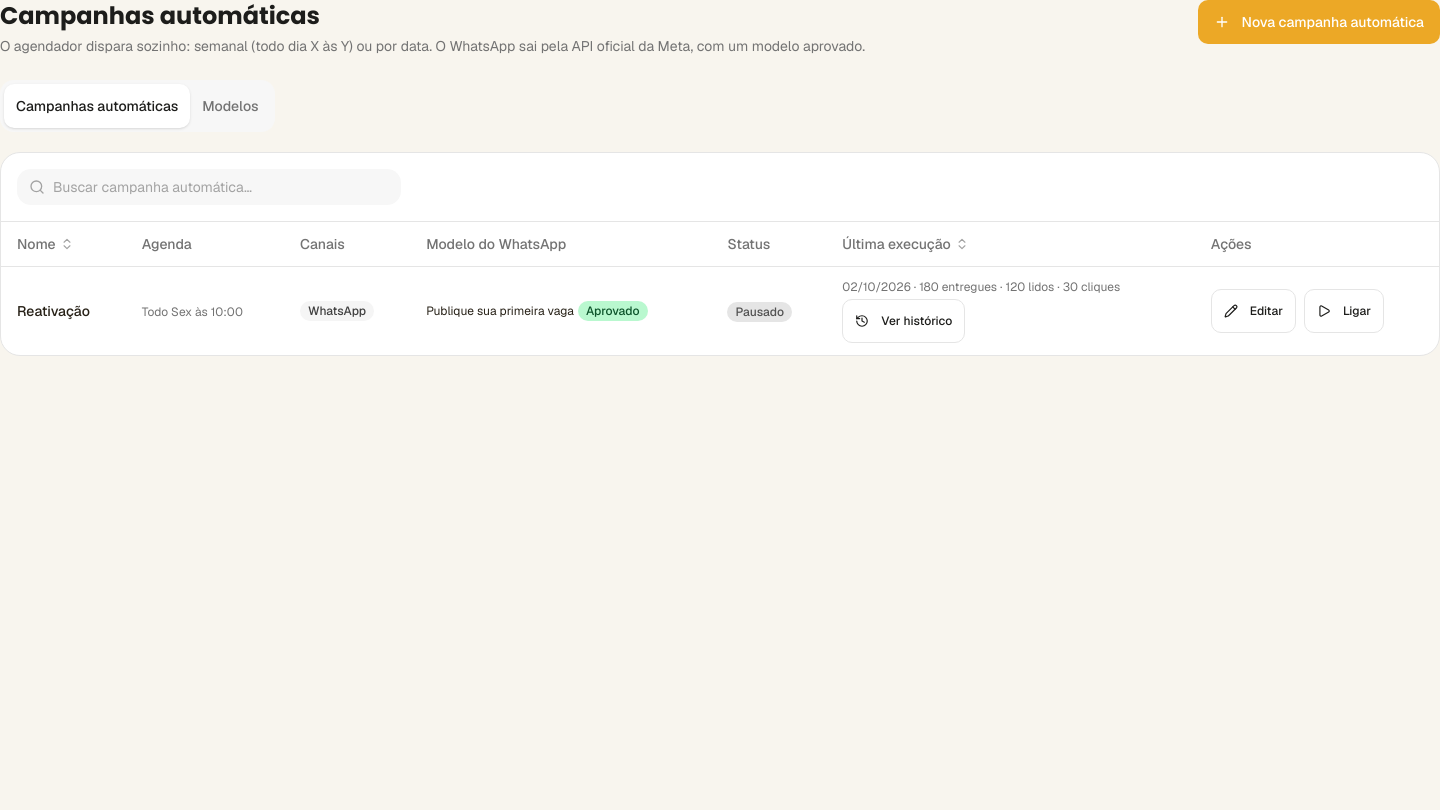
Test case: CampanhasAutomaticasPage — última execução e histórico (spec 2026-10-01 parte 2 §8.5) › Ver histórico abre as execuções; Ver detalhe abre o detalhe da execução
Click the button "Ver histórico" at (904, 321), box [842,299,965,343]
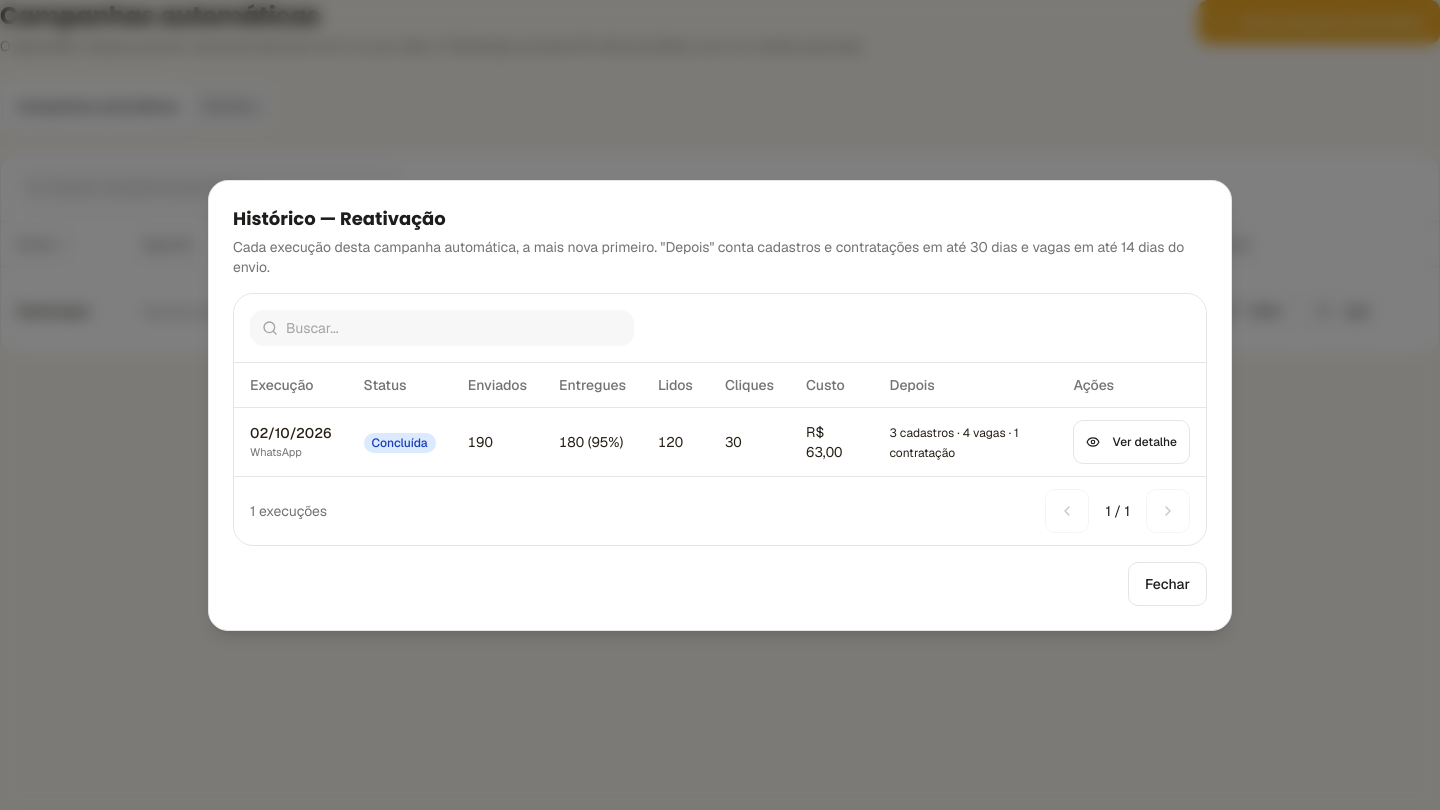
Expected: the heading "Histórico — Reativação" is shown, [233,206,446,230]
Click the button "Ver detalhe" at (1132, 442), box [1074,420,1190,464]
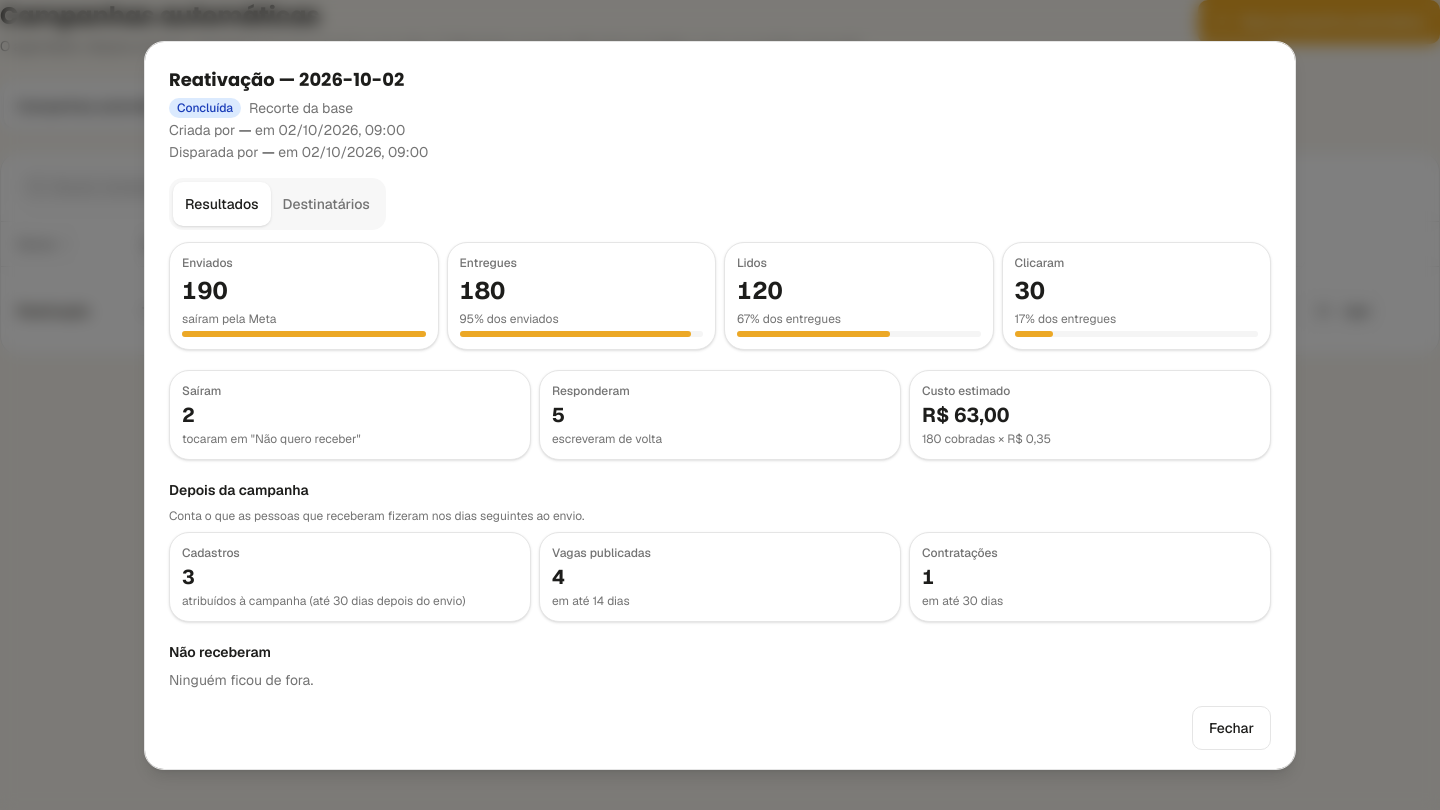
Expected: the heading "Histórico — Reativação" is gone
